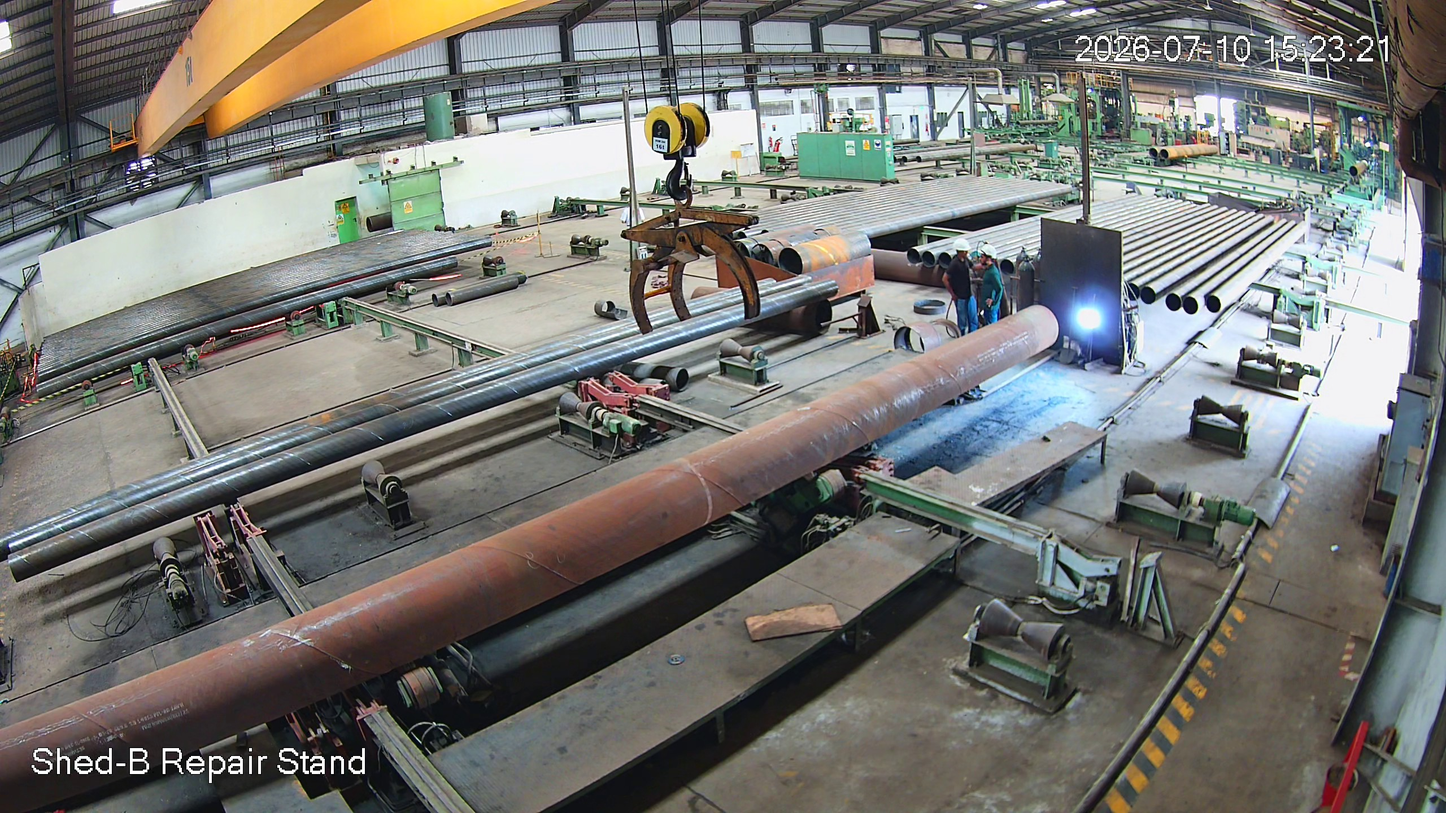Helmet: (948, 234, 975, 262), (978, 240, 1002, 269)
Person: (943, 238, 975, 336), (977, 244, 1010, 324)
